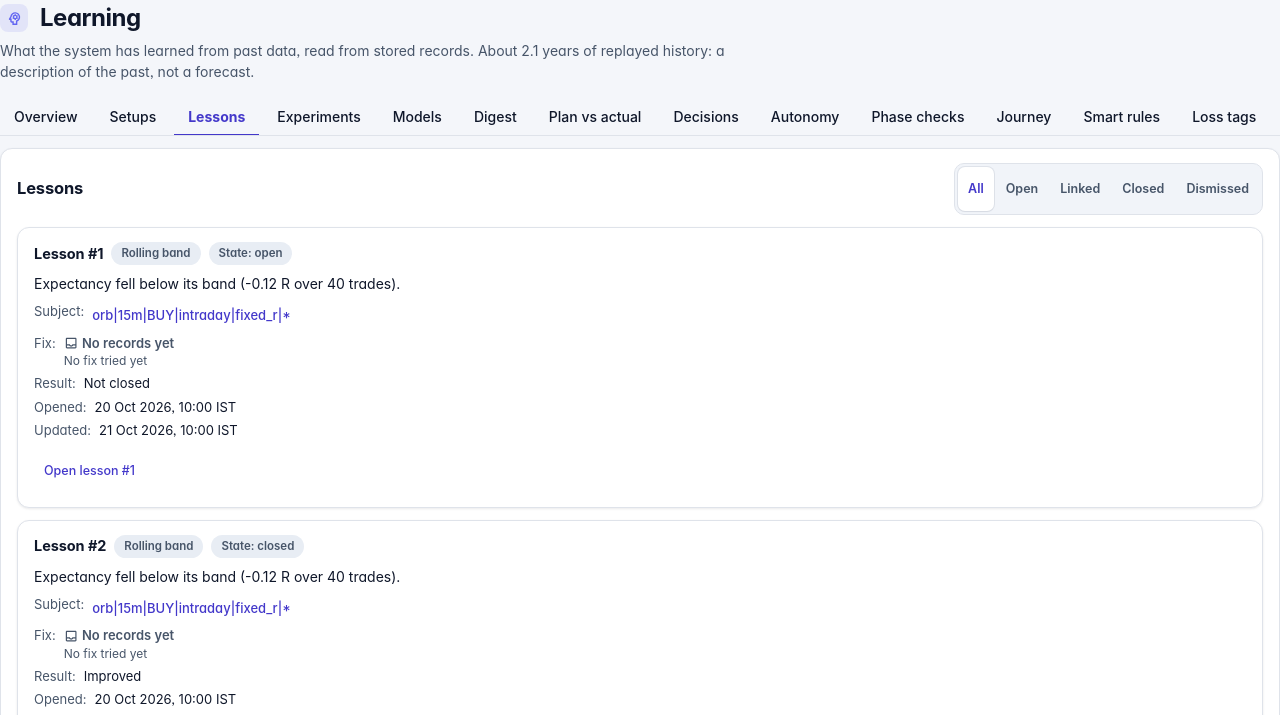
Test: Learning, Lessons tab › filters by state through the address
Expected: the heading "Lesson #2" is shown, x1=34 y1=535 x2=106 y2=557
Click the button "closed": (1143, 189) x1=1112 y1=167 x2=1174 y2=211
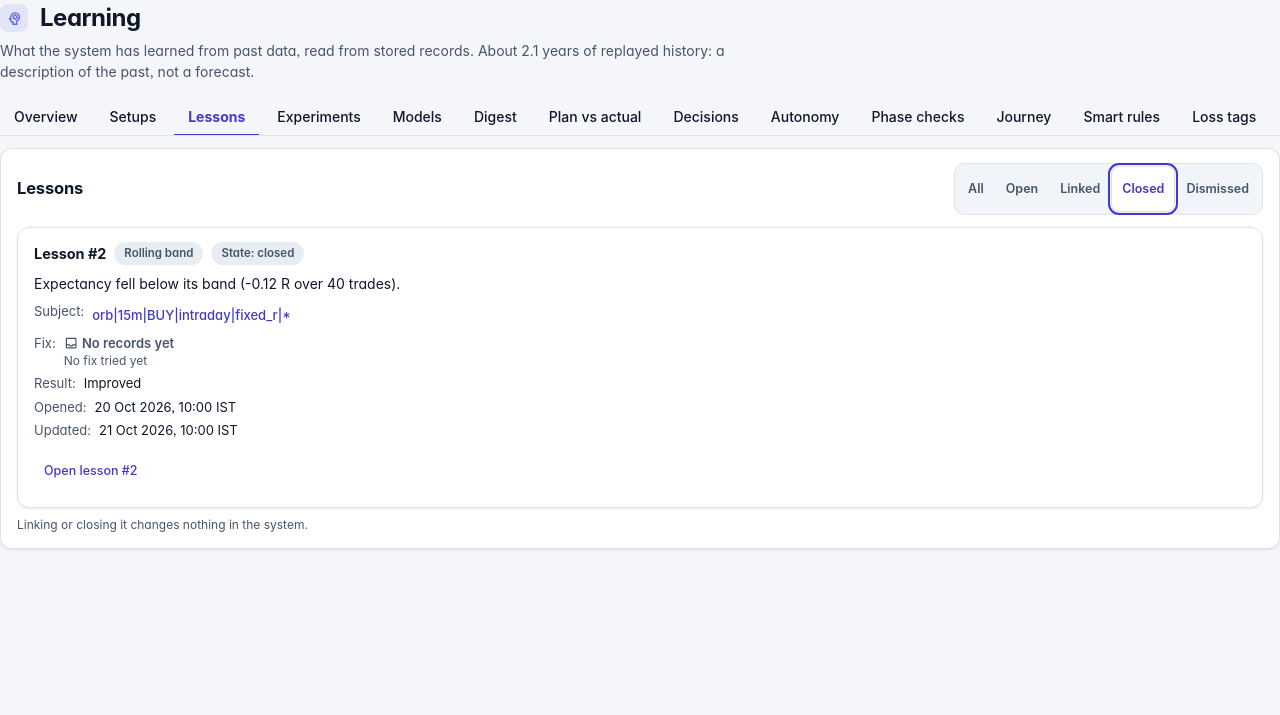
Expected: the heading "Lesson #2" is shown, x1=34 y1=243 x2=106 y2=265
Expected: the heading "Lesson #1" is gone
